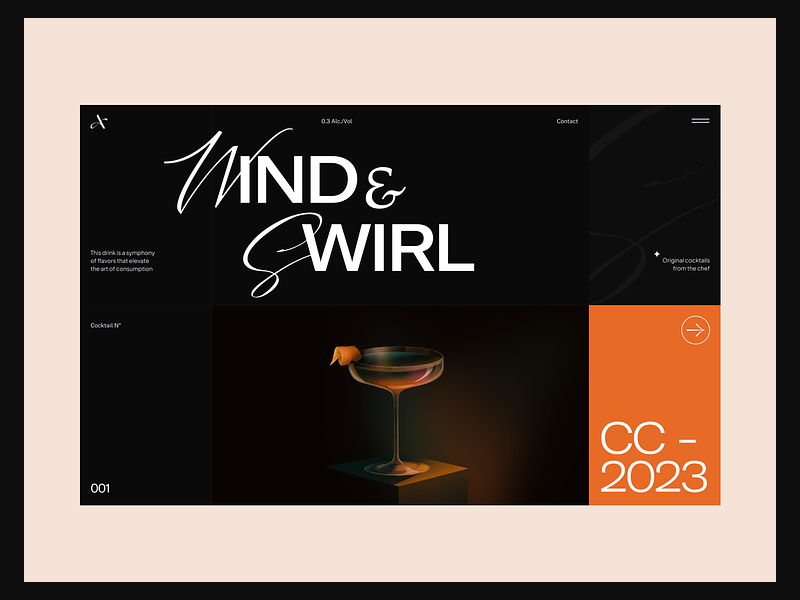menu-icon: (541, 108, 720, 500)
